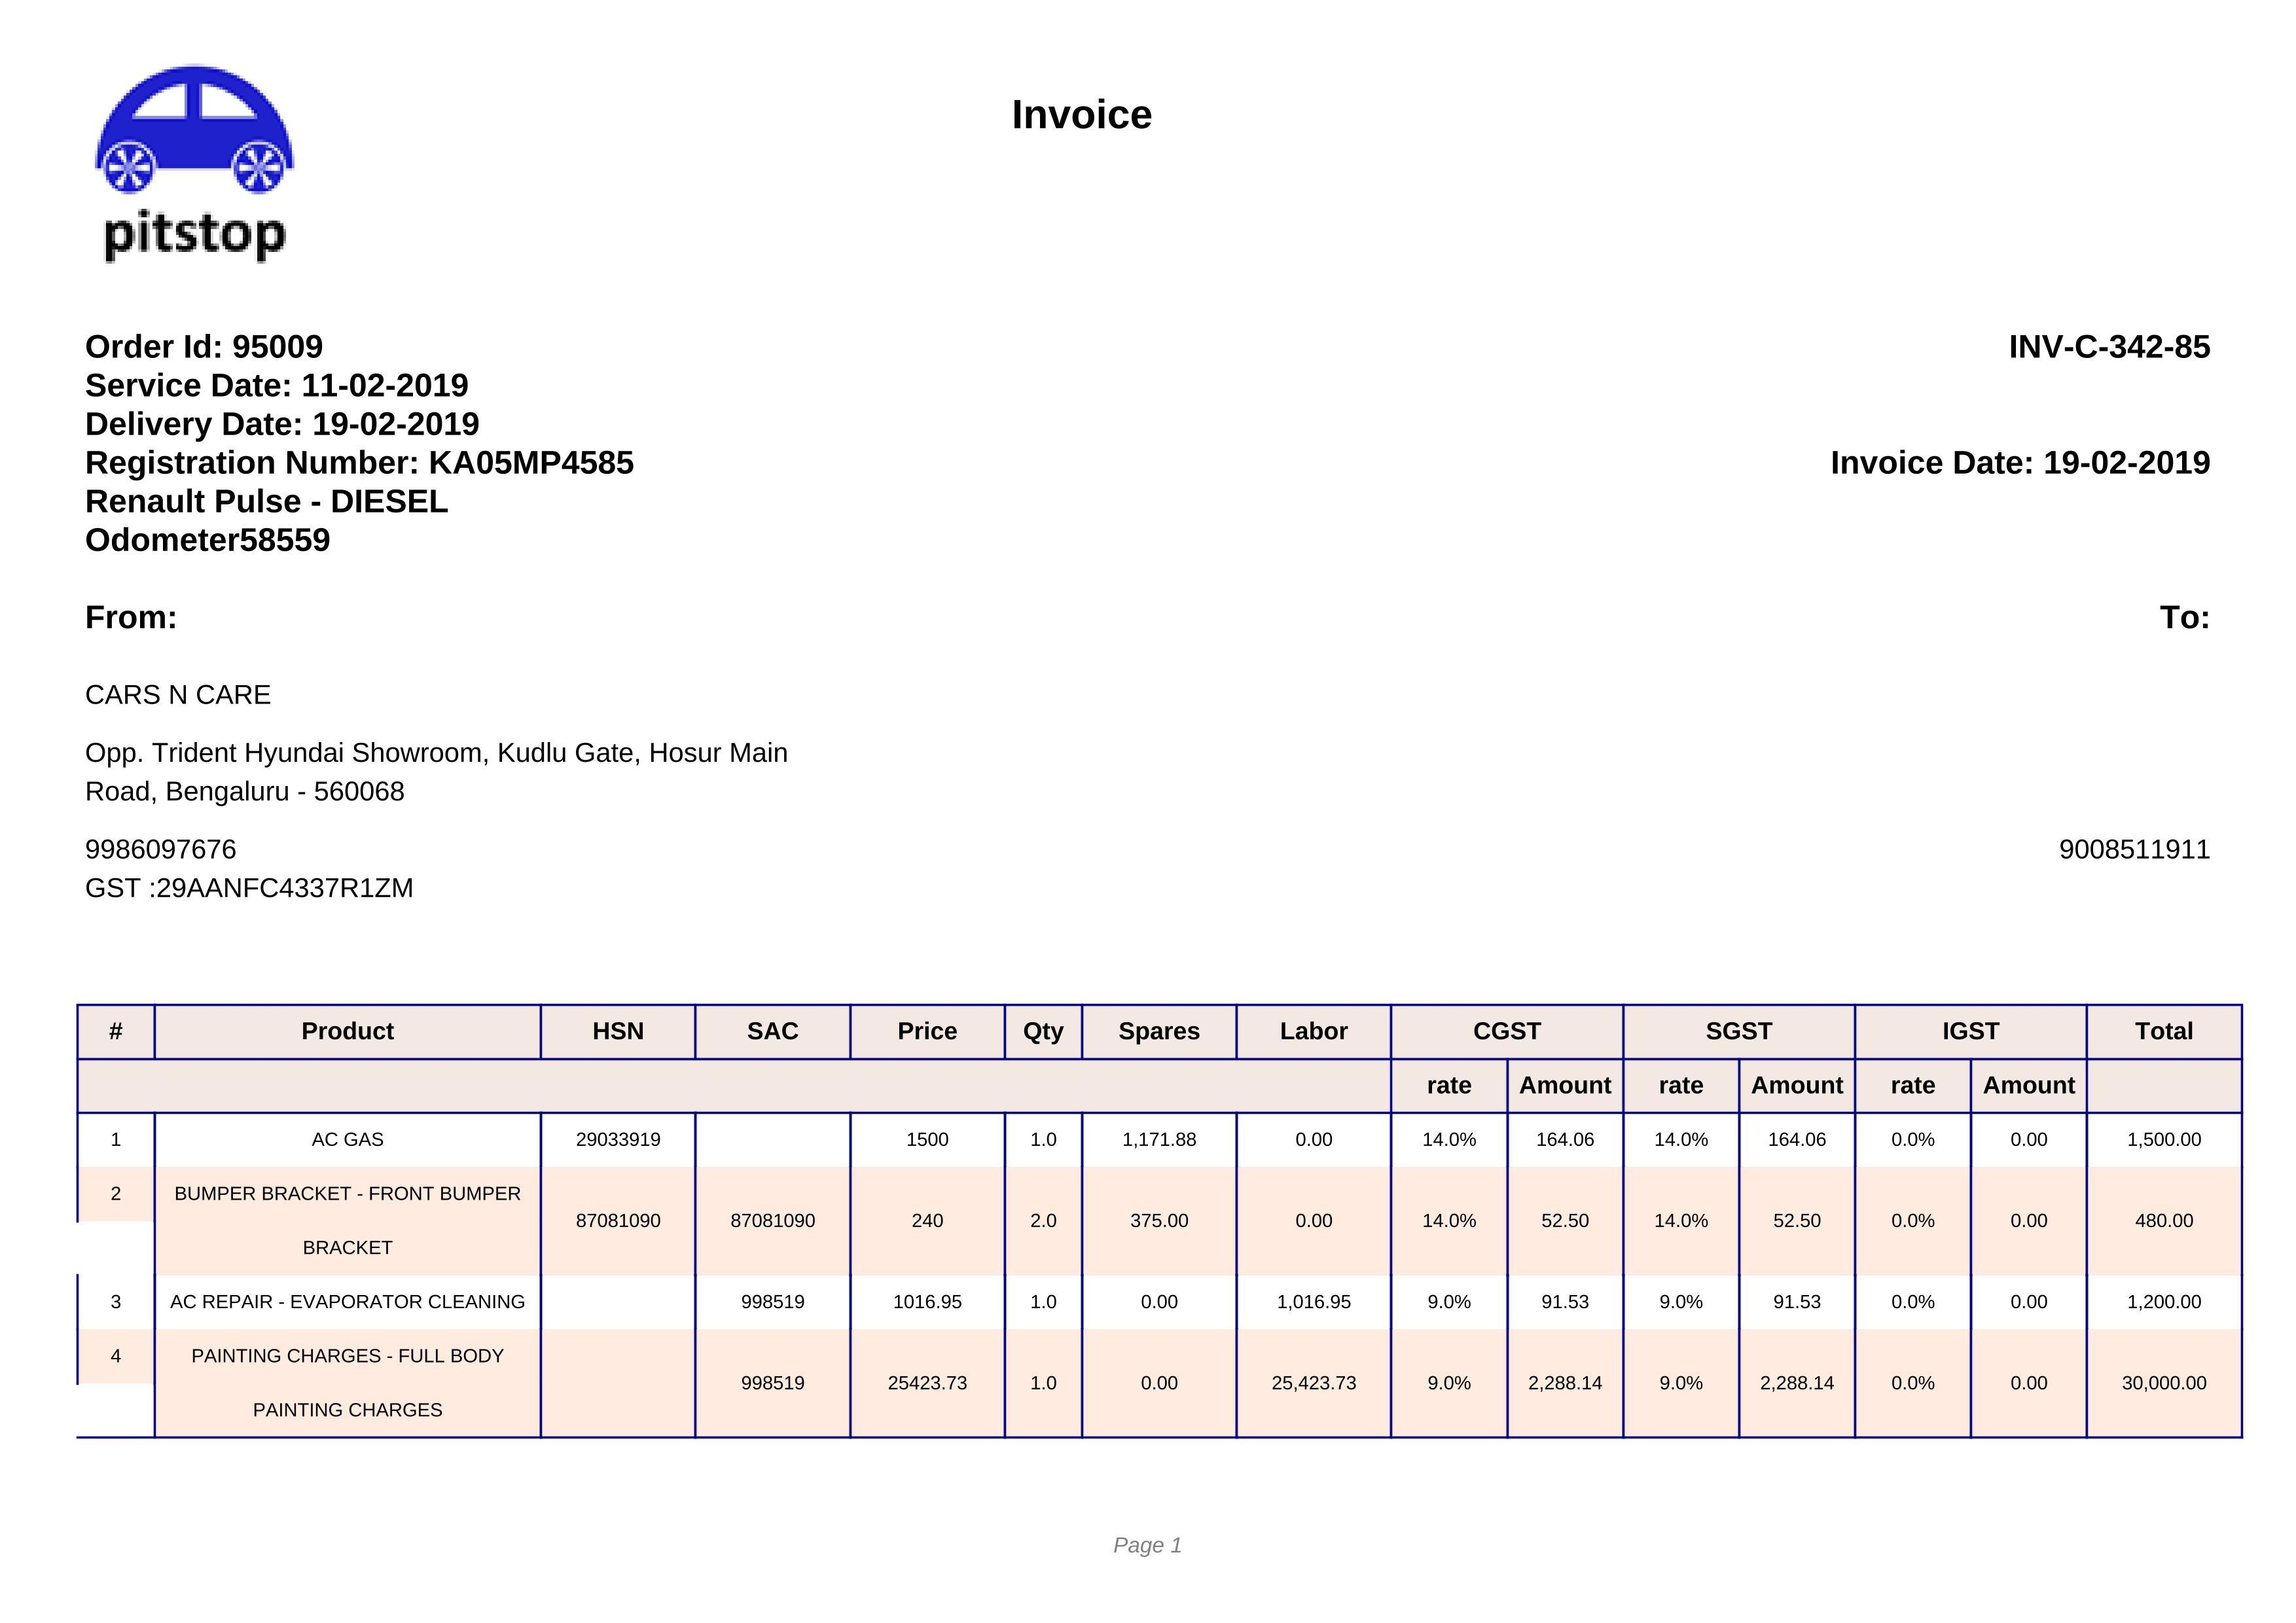InvoiceDate: (2034, 441, 2226, 487)
InvoiceNumber: (1997, 316, 2222, 378)
TotalAmount: (2108, 1358, 2215, 1407)
